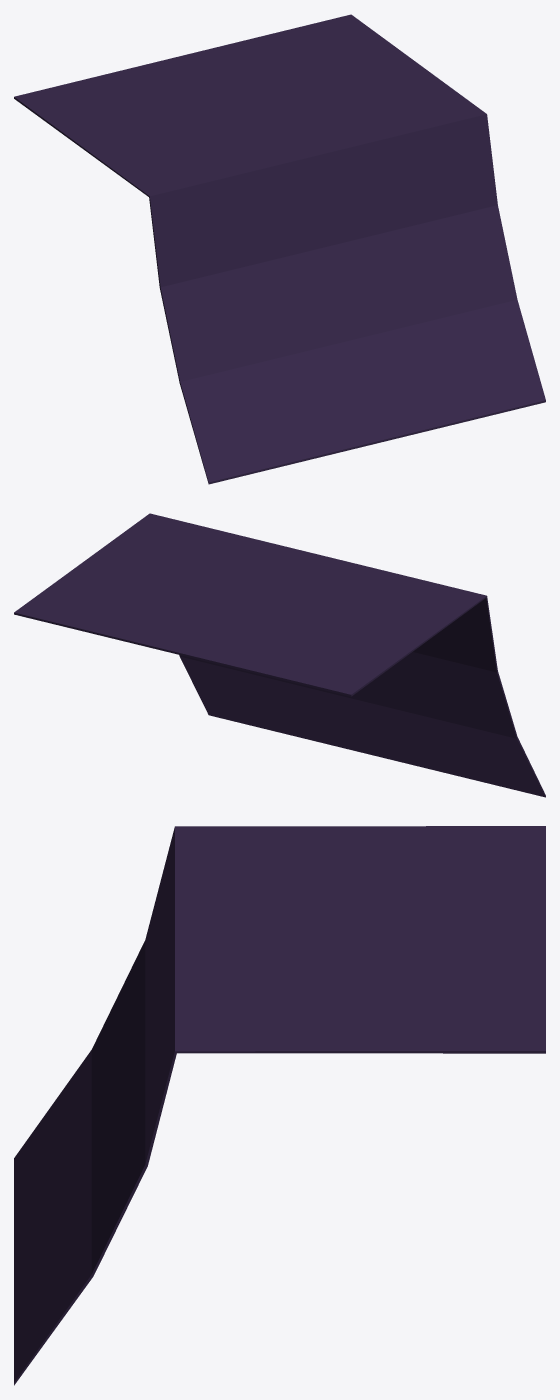
File: toit.FBX
The picture shows the model from 3 angles, top to bottom: view 1: azimuth 30°, elevation 25°; view 2: azimuth 150°, elevation 25°; view 3: azimuth 270°, elevation 25°; orthographic projection. The views are drawn at different scales.
Visible parts, largest first — view 1: toit; view 2: toit; view 3: toit.
Part boxes in pixels (left/top/right/bottom): toit: left=14, top=14, right=545, bottom=484; toit: left=14, top=513, right=545, bottom=797; toit: left=14, top=826, right=545, bottom=1385.
Bounding box in the file's own units: 138 × 95.75 × 138.
Materials: 1 (1 with a texture image).
